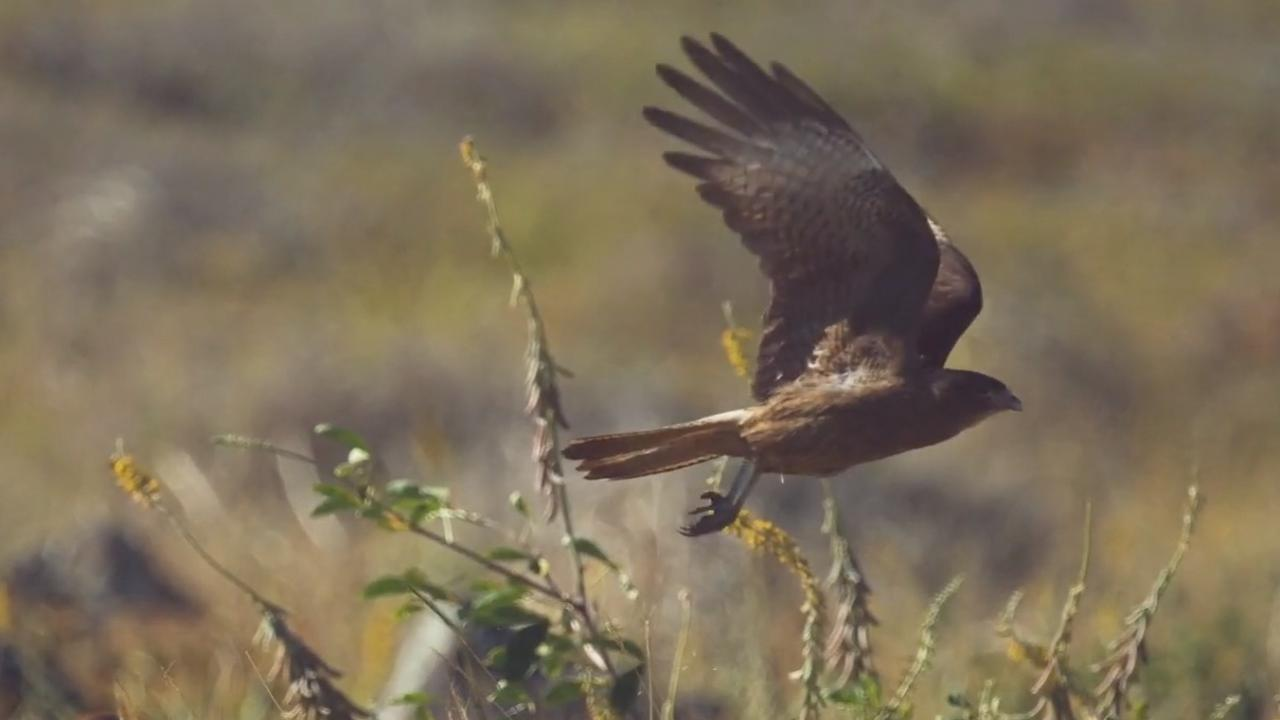Bird: (548, 26, 1035, 542)
